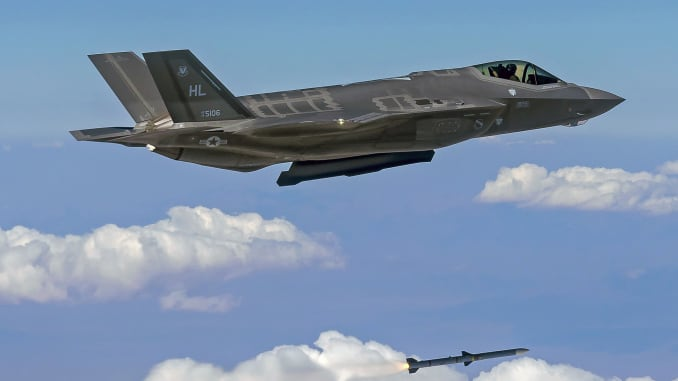F-35 Lightning: (65, 26, 637, 197)
